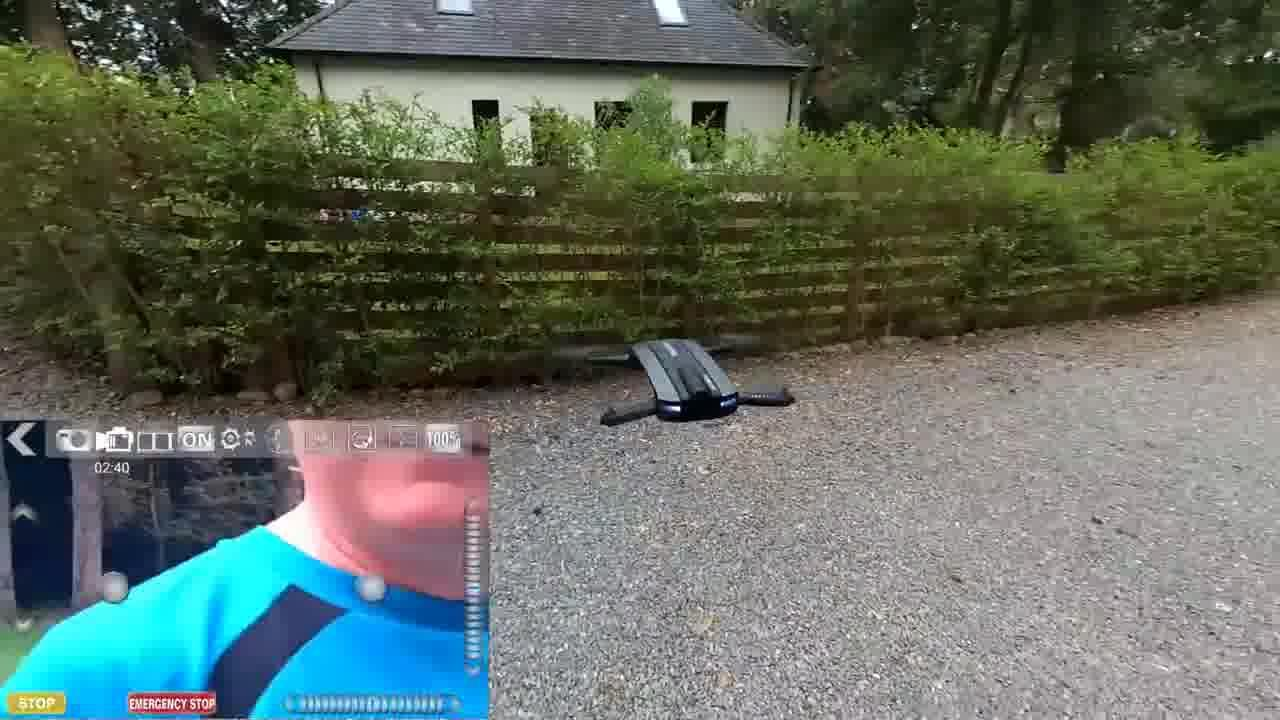drone: (571, 322, 804, 436)
